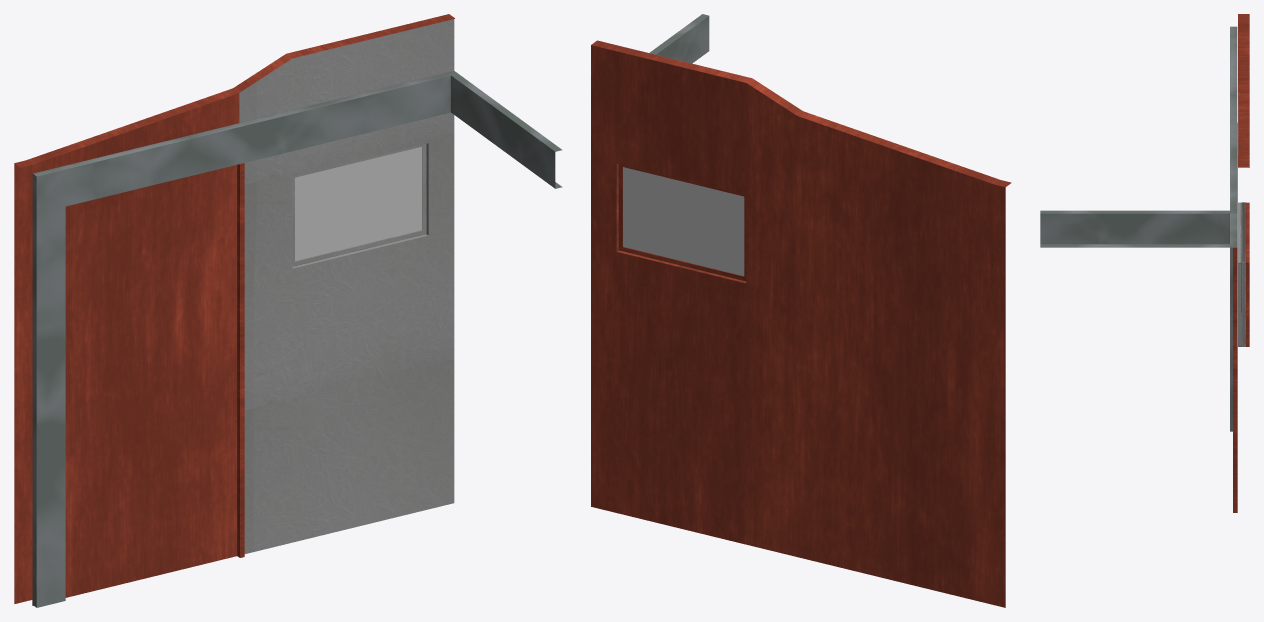
File: SM_Bath_Wall.fbx
The picture shows the model from 3 angles, left to right: view 1: azimuth 30°, elevation 25°; view 2: azimuth 150°, elevation 25°; view 3: azimuth 270°, elevation 25°; orthographic projection. The views are drawn at different scales.
Visible parts, largest first — view 1: SM_Bath_Wall; view 2: SM_Bath_Wall; view 3: SM_Bath_Wall.
Part boxes in pixels (x1=…): SM_Bath_Wall: x1=14, y1=14, x2=562, y2=607; SM_Bath_Wall: x1=591, y1=14, x2=1011, y2=607; SM_Bath_Wall: x1=1040, y1=14, x2=1249, y2=512.
Bounding box in the file's own units: 268 × 123 × 285.
Materials: 2 (1 with a texture image).
